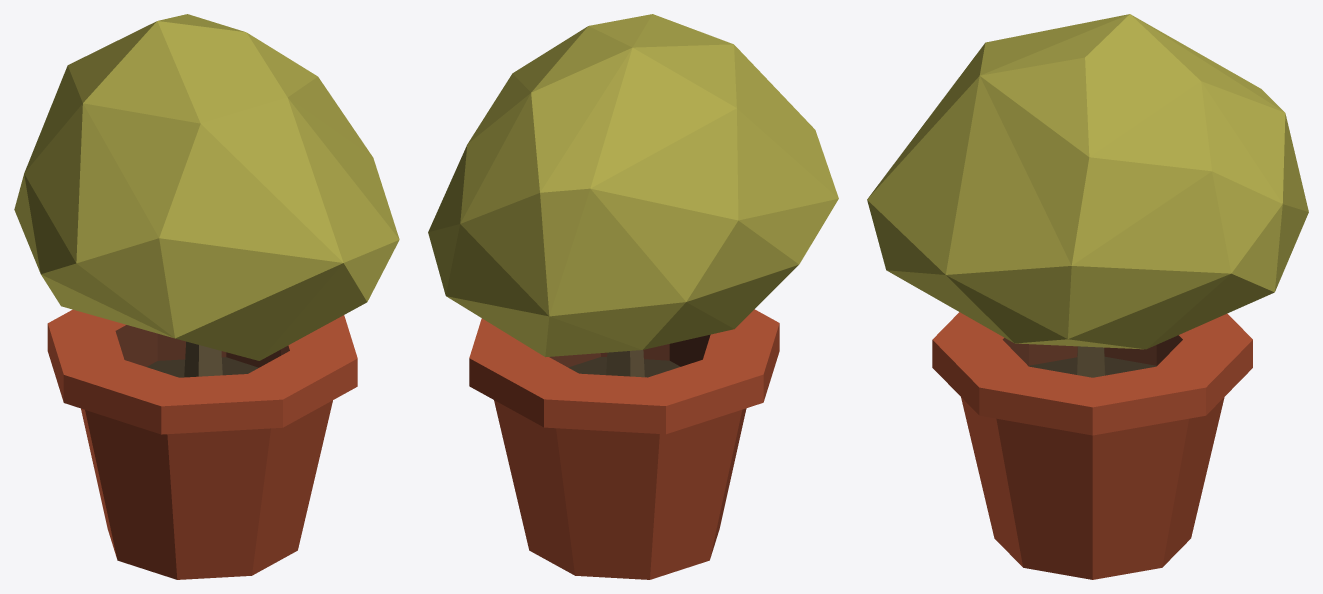
Rendered from small plant.fbx.
3 views of the same model, side by side, from view 1: azimuth 30°, elevation 25°; view 2: azimuth 150°, elevation 25°; view 3: azimuth 270°, elevation 25° (orthographic).
Visible parts, largest first — view 1: circular plant; view 2: circular plant; view 3: circular plant.
Boxes of the visible parts, left/top/right/bottom form: circular plant: left=14, top=14, right=399, bottom=579; circular plant: left=428, top=14, right=838, bottom=579; circular plant: left=867, top=14, right=1308, bottom=579.
Bounding box in the file's own units: 115 × 170 × 133.
